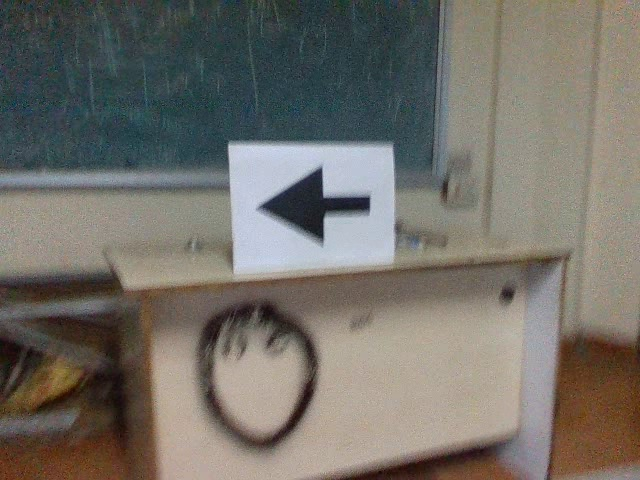Left: (249, 157, 376, 249)
